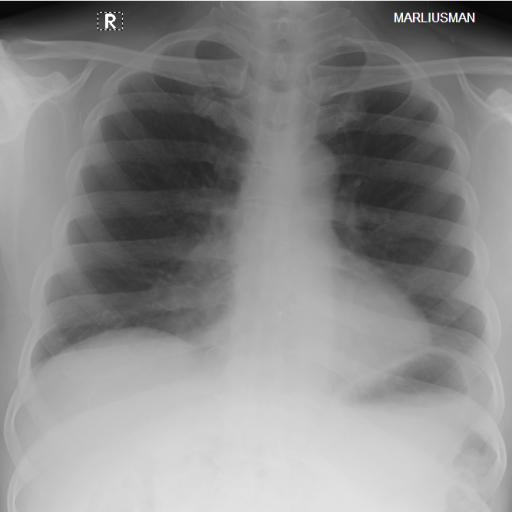kardiomegali: (11, 12, 508, 426)
